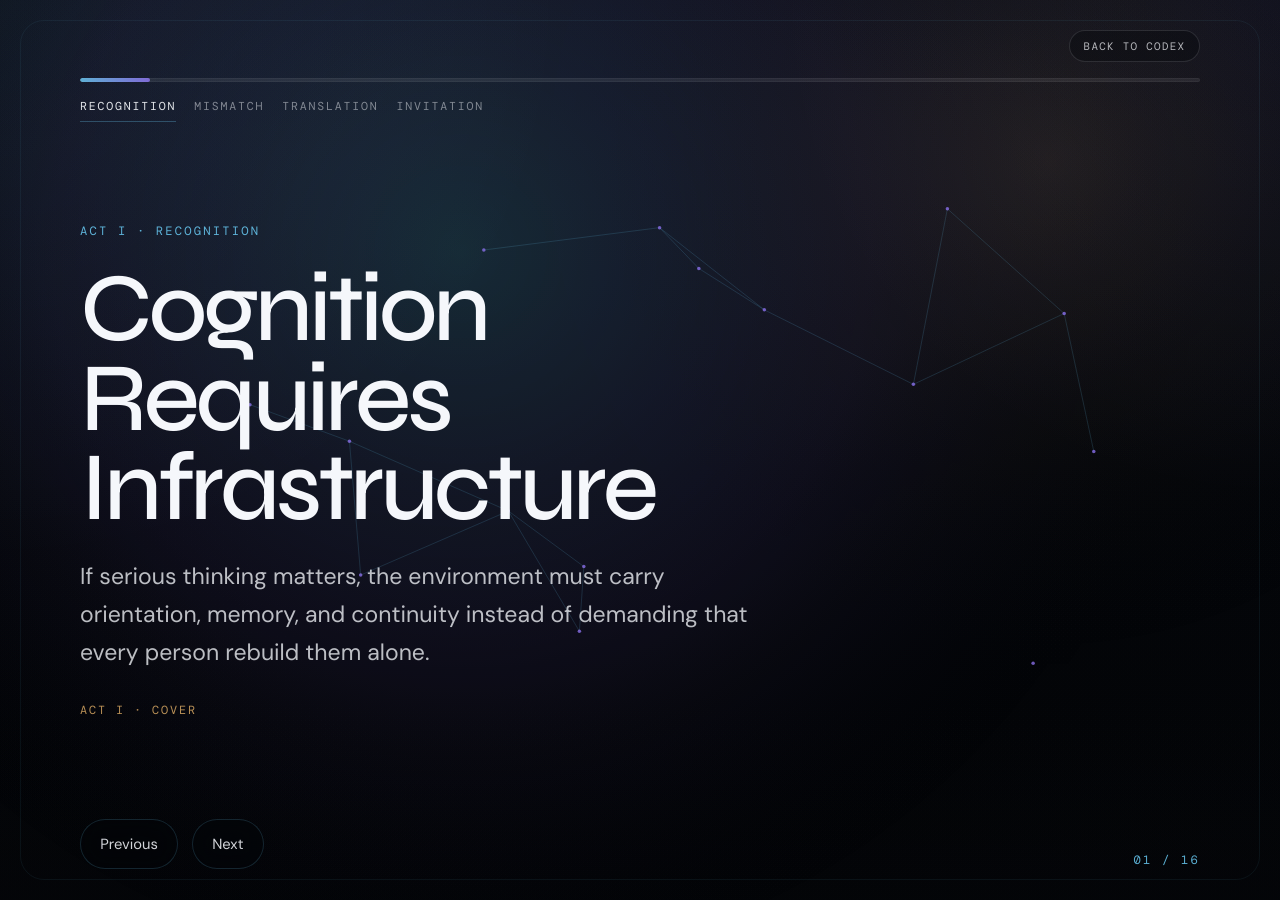
Test: CognitionDeck › keeps the signal state while advancing within the recognition act
Click the button with aria-label "next slide" at (228, 844), box [192,819,264,869]
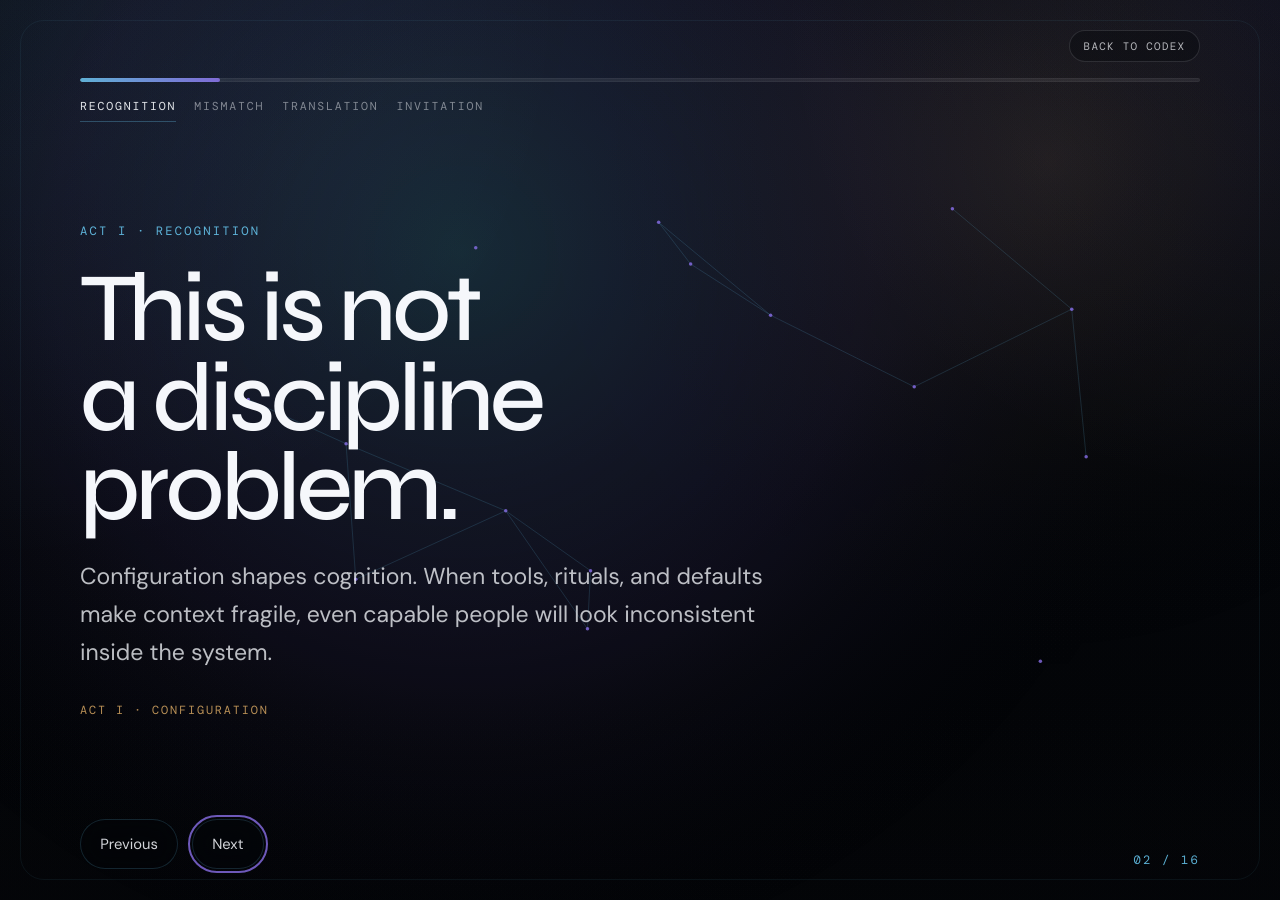
Result: the heading "This is not a discipline problem." is shown at [80,250,542,546]
